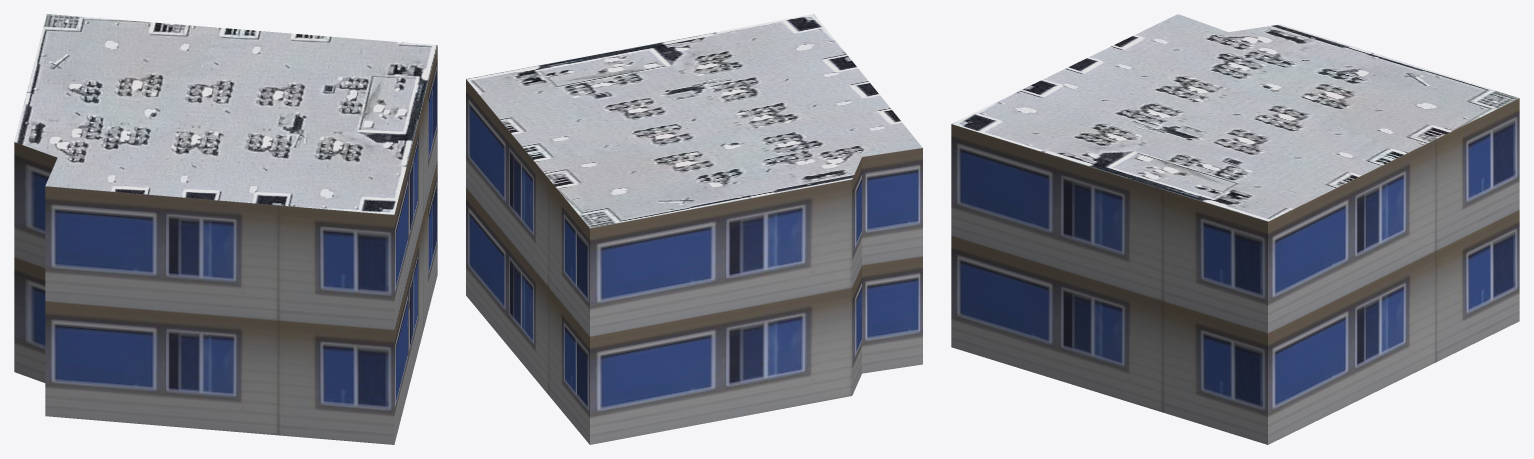
The model's file is ResTex__1394.fbx.
3 renders of one model, left to right at view 1: azimuth 30°, elevation 25°; view 2: azimuth 150°, elevation 25°; view 3: azimuth 270°, elevation 25°, orthographic. The views are drawn at different scales.
Visible parts, largest first — view 1: CityEngineMaterial_23_m, CityEngineMaterial_4_m; view 2: CityEngineMaterial_23_m, CityEngineMaterial_4_m; view 3: CityEngineMaterial_23_m, CityEngineMaterial_4_m.
Boxes of the visible parts, <box> form: CityEngineMaterial_23_m: <box>14,46,437,444</box>; CityEngineMaterial_4_m: <box>14,14,437,214</box>; CityEngineMaterial_23_m: <box>466,79,922,444</box>; CityEngineMaterial_4_m: <box>466,14,922,228</box>; CityEngineMaterial_23_m: <box>951,98,1519,444</box>; CityEngineMaterial_4_m: <box>952,14,1519,221</box>.
Size of the model in its own units: 11.98 by 6 by 13.84.
Materials: 2 (2 with a texture image).
